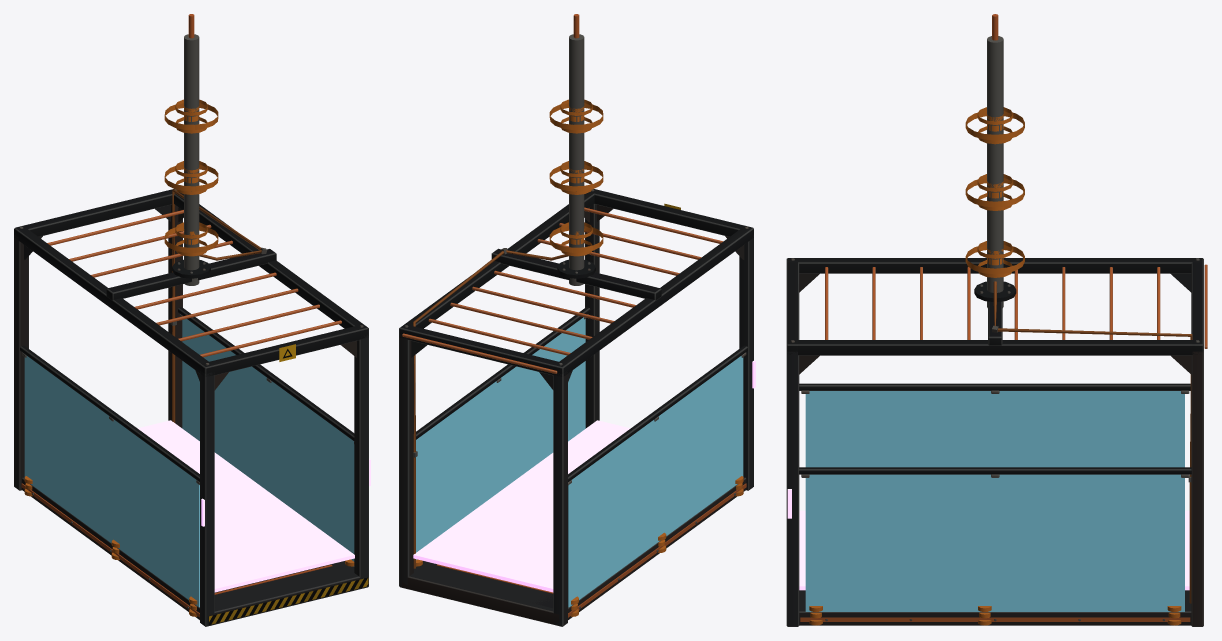
Rendered from storm_collector.glb.
3 views of the same model, side by side, from view 1: azimuth 30°, elevation 25°; view 2: azimuth 150°, elevation 25°; view 3: azimuth 270°, elevation 25° (orthographic). The views are drawn at different scales.
Parts seen in each view (by area): view 1: Frame, Glass, Glow; view 2: Frame, Glass, Glow; view 3: Glass, Frame, Glow.
Part boxes in pixels (x1,y1,x2,y2): Frame: (14, 14, 370, 626); Glass: (24, 319, 354, 607); Glow: (138, 420, 354, 592); Frame: (399, 14, 755, 626); Glass: (416, 317, 743, 607); Glow: (413, 420, 630, 592); Glass: (805, 391, 1184, 611); Frame: (786, 14, 1207, 626); Glow: (799, 510, 1189, 590).
Size of the model in its own units: 2 by 5.95 by 4.02.
